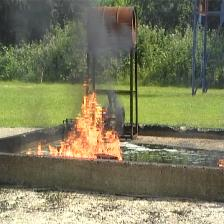fire: (38, 93, 123, 161)
